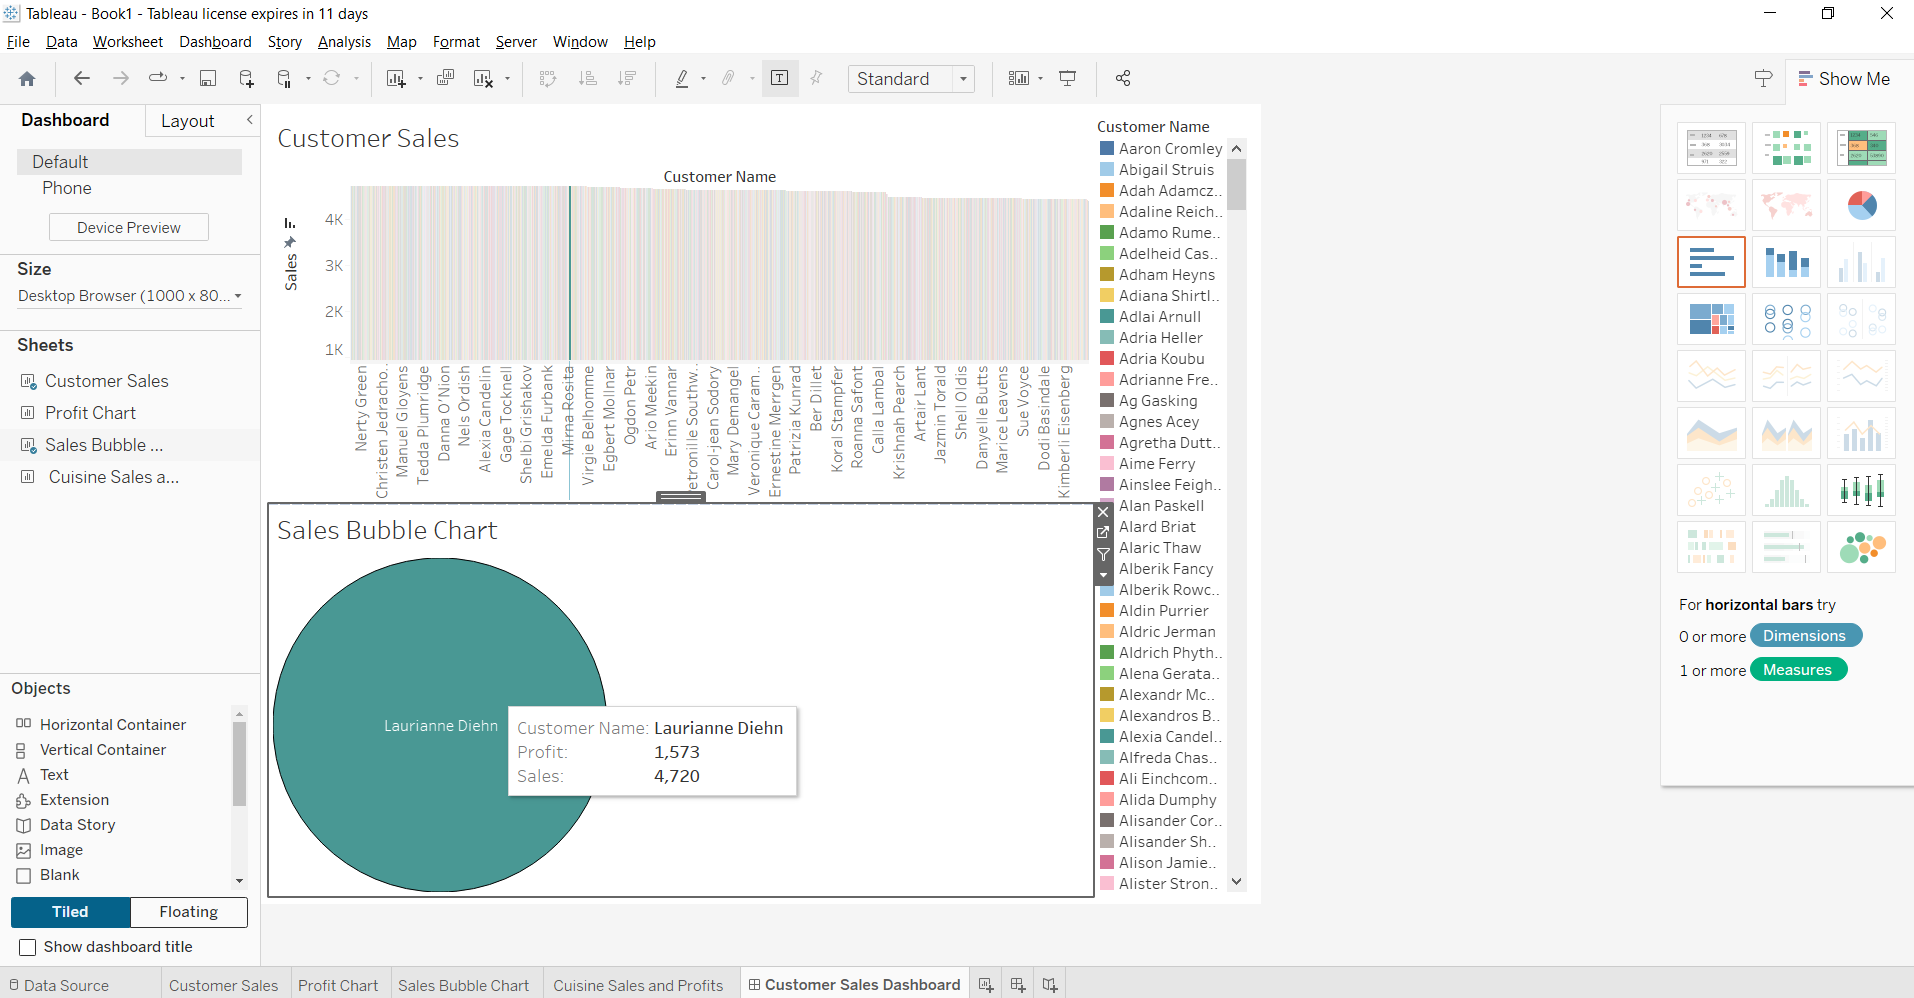

The page's visual inventory and layout, read from the dashboard file:
{"tool":"tableau","page":{"name":"Customer Sales Dashboard","canvas":[1000,800],"ordinal":0},"visuals":[{"type":"worksheet","title":"Customer Sales","mark":"Automatic","rows":["Sales"],"cols":["Customer Name"],"box":[8,8,824,392]},{"type":"legend","title":"Customer Sales","param":"[federated.0d54lzv0jljiab12z0px11hgukky].[none:Customer Name:nk]","box":[832,8,160,784]},{"type":"worksheet","title":"Sales Bubble Chart","mark":"Circle","box":[8,400,824,392]}]}

Visuals, with their boxes on the page's 1000x800 design canvas (x1, y1, x2, y2). These are canvas units, not pixel positions in the 1914x998 screenshot, which may show the page scaled, cropped or inside an application window:
"Customer Sales" worksheet: box=[8, 8, 832, 400]
"Customer Sales" legend: box=[832, 8, 992, 792]
"Sales Bubble Chart" worksheet (Circle marks): box=[8, 400, 832, 792]
